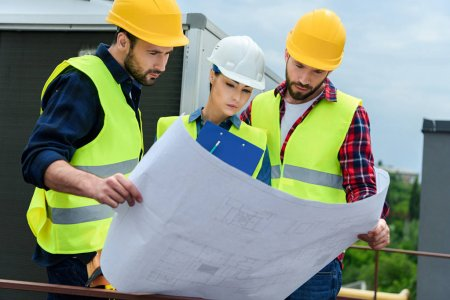casco: (104, 1, 190, 48), (285, 8, 346, 73), (205, 35, 267, 92)
